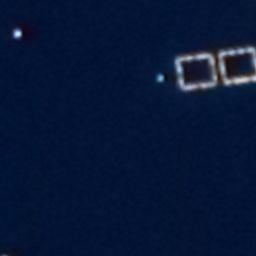square_solid: (174, 51, 219, 92), (217, 45, 256, 85)
